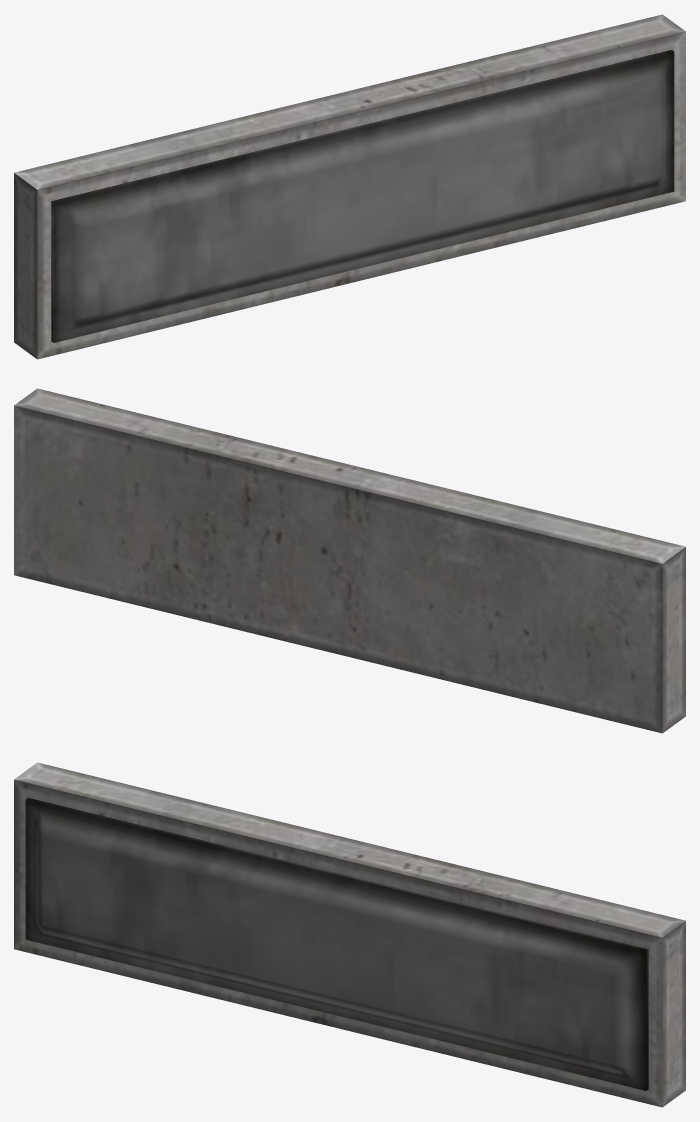
Rendered from backlit_sign_radiation_area_red.glb.
3 renders of one model, top to bottom at view 1: azimuth 30°, elevation 25°; view 2: azimuth 150°, elevation 25°; view 3: azimuth 330°, elevation 25°, orthographic.
Parts seen in each view (by area): view 1: backlit_sign_radiation_area_LOD0; view 2: backlit_sign_radiation_area_LOD0; view 3: backlit_sign_radiation_area_LOD0.
Part boxes in pixels (box(x1,y1,x2,y2)): backlit_sign_radiation_area_LOD0: box(14, 14, 685, 359); backlit_sign_radiation_area_LOD0: box(14, 388, 685, 733); backlit_sign_radiation_area_LOD0: box(14, 762, 685, 1107).
Bounding box in the file's own units: 1 × 0.25 × 0.0886.
Materials: 1 (1 with a texture image).
